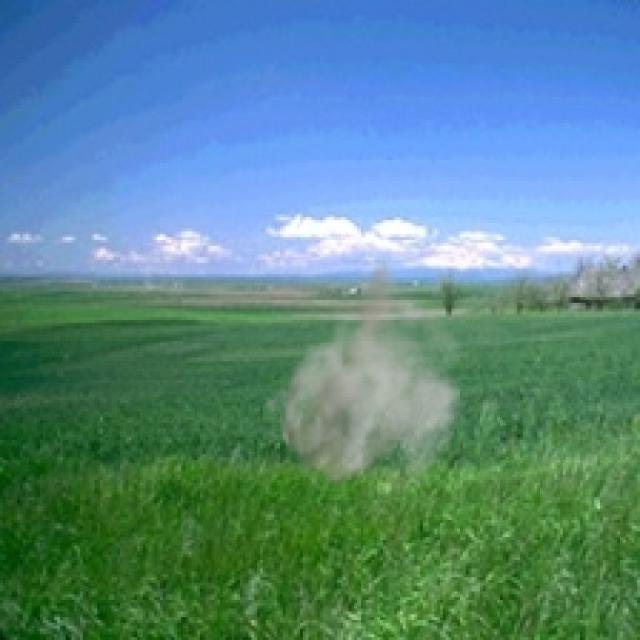smoke: (263, 252, 471, 508)
